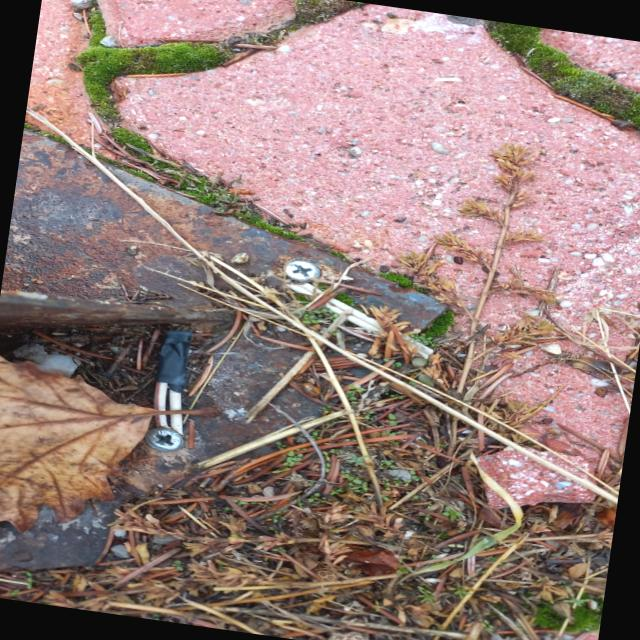Phillips: (138, 426, 195, 458), (276, 258, 326, 286)
